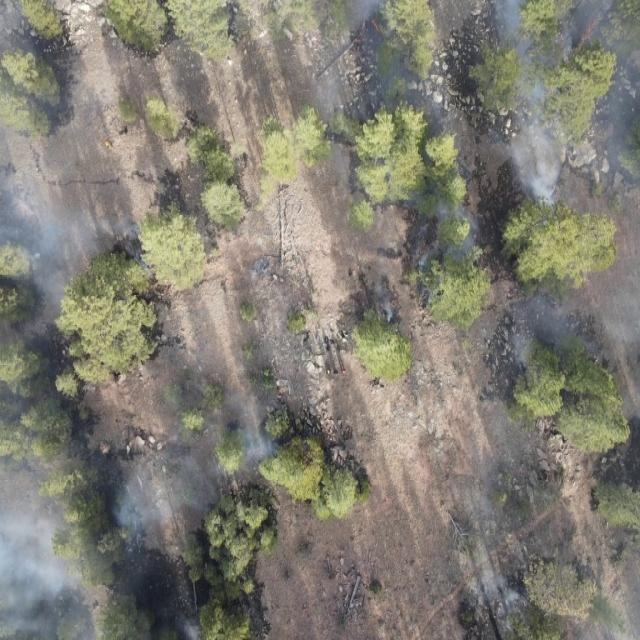fire: (572, 18, 600, 50), (356, 17, 380, 42), (276, 389, 286, 399)
smoke: (0, 327, 263, 640), (357, 0, 640, 288), (1, 0, 135, 284), (452, 495, 640, 640), (490, 288, 640, 389)
